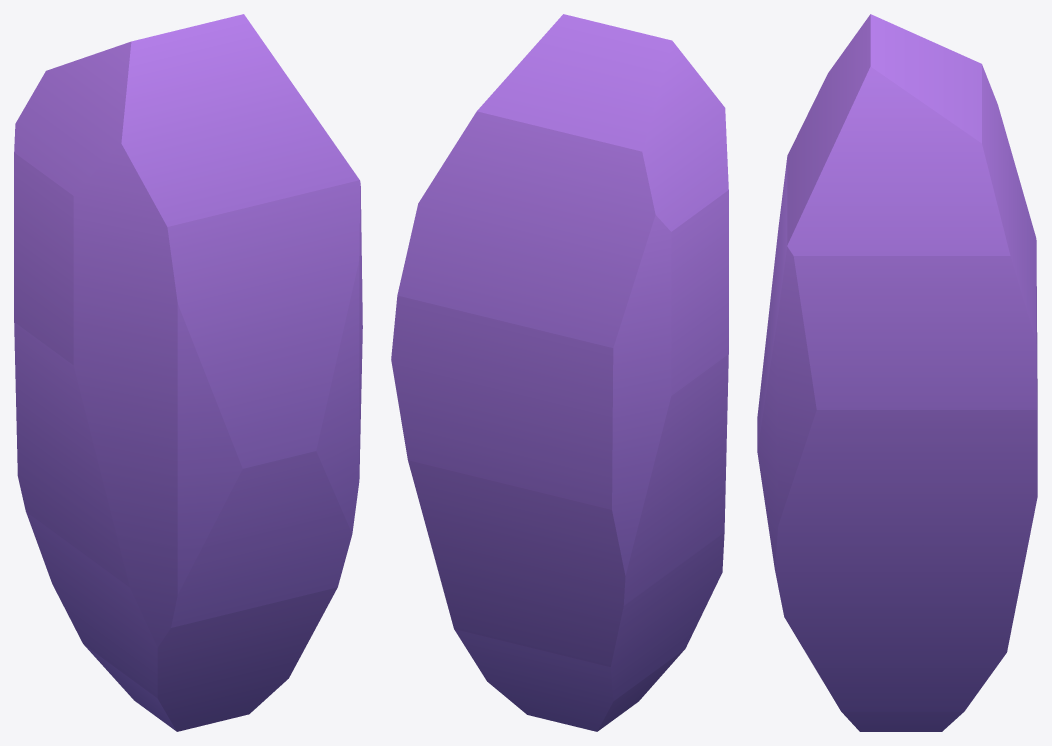
The model's file is Crystal_P_28.glb.
3 views of the same model, side by side, from view 1: azimuth 30°, elevation 25°; view 2: azimuth 150°, elevation 25°; view 3: azimuth 270°, elevation 25° (orthographic). The views are drawn at different scales.
Parts seen in each view (by area): view 1: crystal_28; view 2: crystal_28; view 3: crystal_28.
Boxes of the visible parts, bbox=[...] form: crystal_28: bbox=[14, 14, 362, 731]; crystal_28: bbox=[391, 14, 728, 731]; crystal_28: bbox=[757, 14, 1037, 731].
Size of the model in its own units: 0.3929 by 1 by 0.3817.
Materials: 1 (1 with a texture image).
